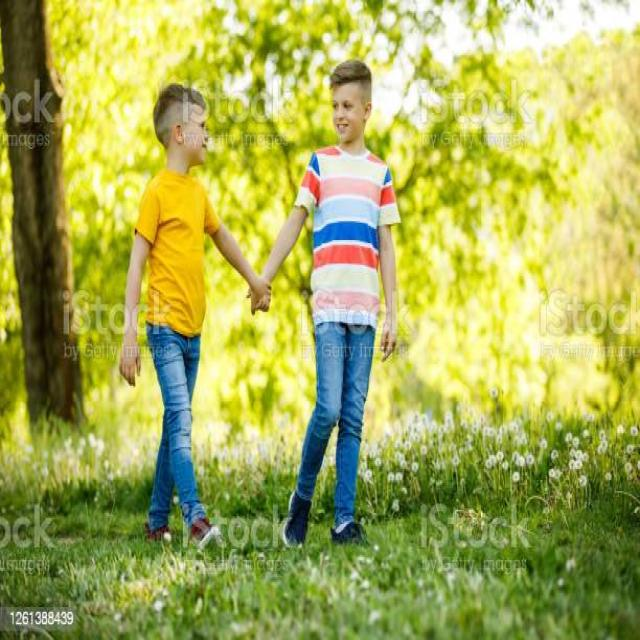Person: (252, 57, 401, 546), (121, 84, 268, 546)
